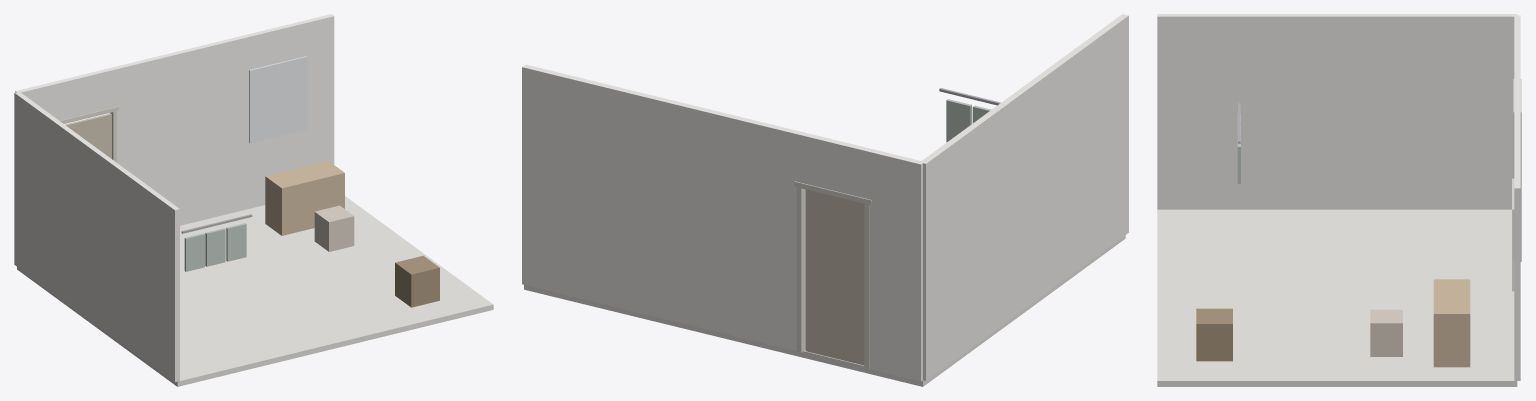
The model's file is scene-photostudio-makeup.glb.
3 renders of one model, left to right at view 1: azimuth 30°, elevation 25°; view 2: azimuth 150°, elevation 25°; view 3: azimuth 270°, elevation 25°, orthographic. The views are drawn at different scales.
Visible parts, largest first — view 1: floor, wall_left, wall_back_r, vanity_table, vanity_mirror, wall_back_lintel, side_table, vanity_chair, door_back, wall_back_l, garment_2_1, garment_2_2 (+1 smaller); view 2: wall_back_r, wall_left, wall_back_l, door_back, wall_back_lintel, floor, frame_back_r, frame_back_l, garment_2_2; view 3: wall_left, floor, vanity_table, wall_back_r, side_table, vanity_chair, frame_back_r, vanity_mirror.
Part boxes in pixels (bbox=[...]): floor: bbox=[17, 196, 493, 386]; wall_left: bbox=[14, 92, 179, 382]; wall_back_r: bbox=[112, 14, 334, 225]; vanity_table: bbox=[265, 161, 344, 235]; vanity_mirror: bbox=[249, 56, 306, 143]; wall_back_lintel: bbox=[55, 67, 117, 120]; side_table: bbox=[395, 255, 439, 307]; vanity_chair: bbox=[314, 205, 354, 251]; door_back: bbox=[65, 113, 111, 158]; wall_back_l: bbox=[15, 81, 60, 120]; garment_2_1: bbox=[205, 228, 225, 266]; garment_2_2: bbox=[226, 223, 246, 261]; wall_back_r: bbox=[522, 64, 800, 351]; wall_left: bbox=[921, 14, 1128, 380]; wall_back_l: bbox=[867, 149, 924, 381]; door_back: bbox=[805, 189, 864, 365]; wall_back_lintel: bbox=[795, 131, 875, 198]; floor: bbox=[524, 235, 1125, 386]; frame_back_r: bbox=[796, 185, 805, 352]; frame_back_l: bbox=[864, 201, 869, 369]; garment_2_2: bbox=[946, 99, 971, 142]; wall_left: bbox=[1157, 14, 1517, 209]; floor: bbox=[1157, 209, 1517, 386]; vanity_table: bbox=[1433, 279, 1470, 367]; wall_back_r: bbox=[1514, 68, 1520, 380]; side_table: bbox=[1196, 308, 1232, 361]; vanity_chair: bbox=[1370, 309, 1402, 356]; frame_back_r: bbox=[1513, 117, 1521, 261]; vanity_mirror: bbox=[1512, 178, 1514, 291].
Size of the model in its own units: 5.04 by 2.68 by 4.45.
